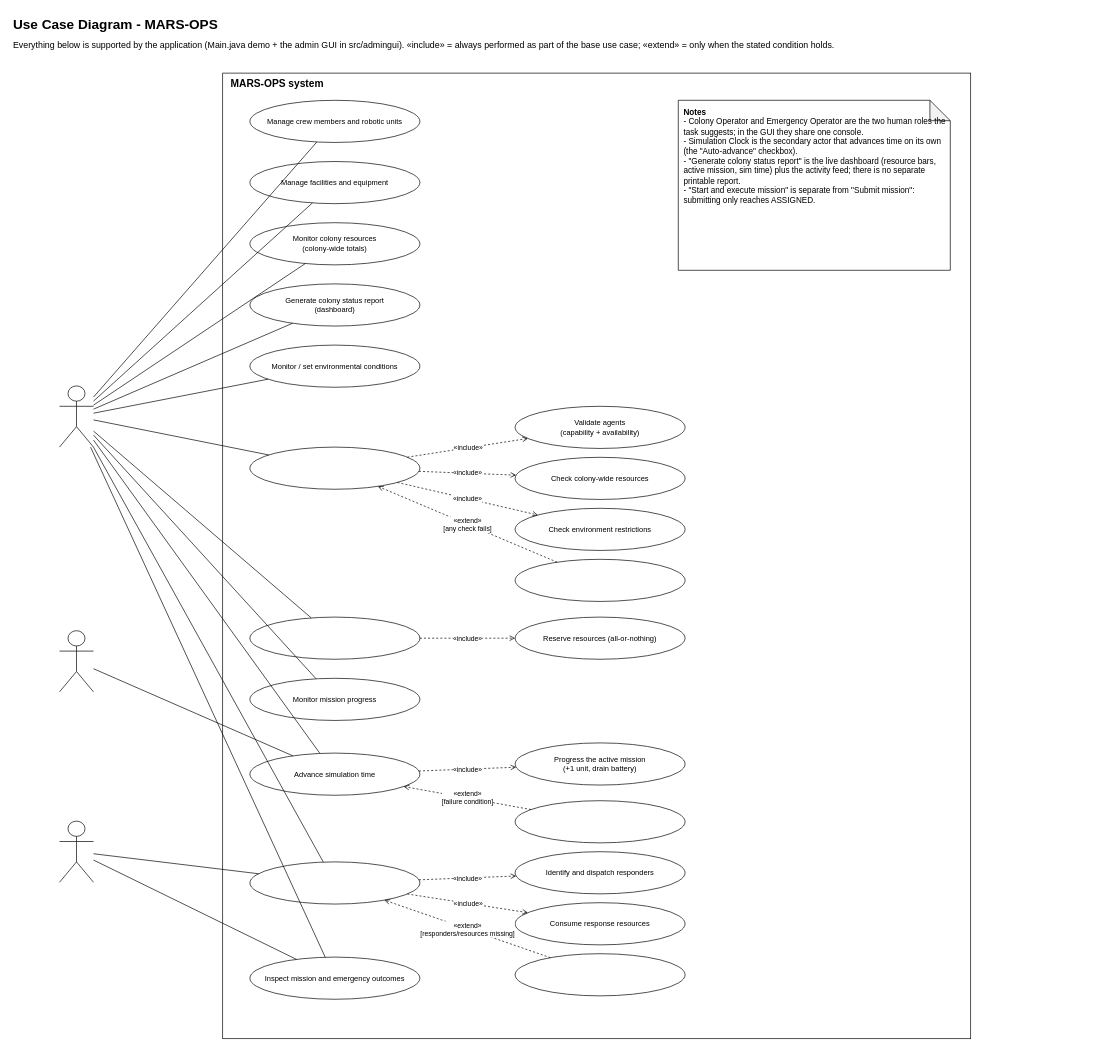
This 1111x1051 diagram has some shape labels left out. The box of each missing label's shape, as (x1, y1, x2, y2) in pixels:
Colony Operator: (59, 385, 94, 447)
Emergency Operator: (59, 820, 94, 882)
Fail active mission (environment / battery / breakdown): (514, 800, 685, 843)
Mark emergency UNRESOLVED (no responders / no resources): (514, 953, 685, 996)
Reject mission with a reason (mission FAILED, never active): (514, 559, 685, 601)
Simulation Clock (auto-advance): (59, 630, 94, 692)
Start and execute mission: (249, 616, 420, 659)
Submit mission: (249, 446, 420, 489)
Trigger and handle emergencies: (249, 861, 420, 904)
